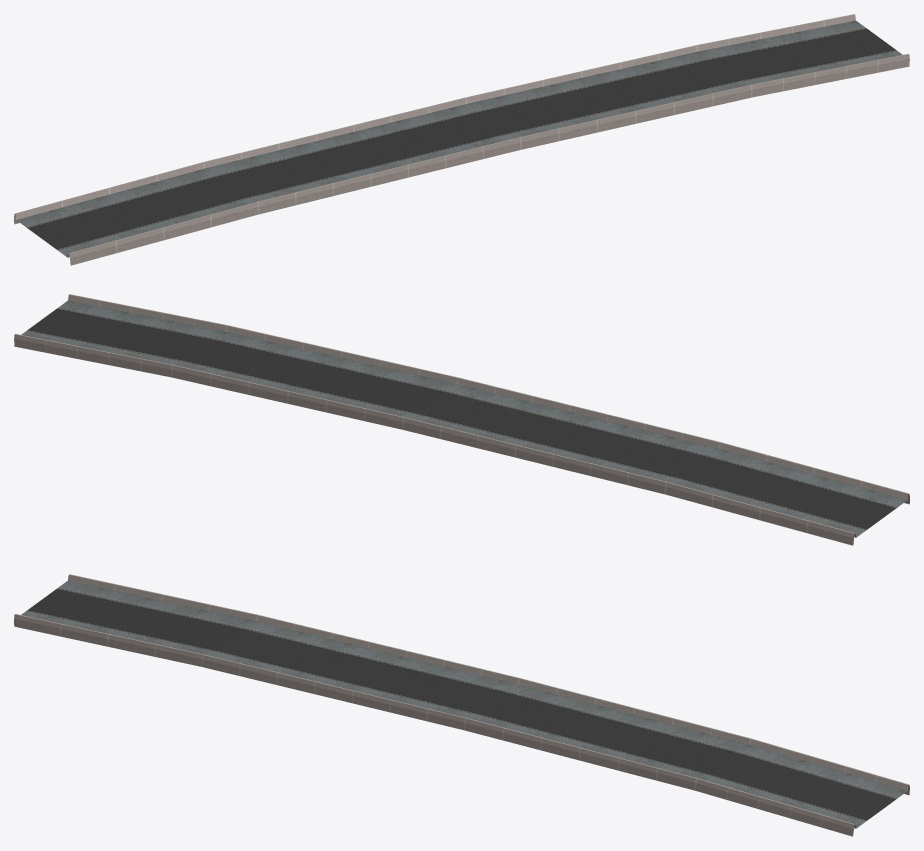
Rendered from lod_laroads_26.obj.
3 views of the same model, one above another, from view 1: azimuth 30°, elevation 25°; view 2: azimuth 150°, elevation 25°; view 3: azimuth 330°, elevation 25° (orthographic).
Visible parts, largest first — view 1: lod_LAroads_26; view 2: lod_LAroads_26; view 3: lod_LAroads_26.
Boxes of the visible parts, x1,y1,x2,y2 form: lod_LAroads_26: (14, 14, 909, 265); lod_LAroads_26: (14, 294, 909, 545); lod_LAroads_26: (14, 574, 909, 836).
Bounding box in the file's own units: 168 × 4.42 × 19.55.
2 materials, 2 textured.
